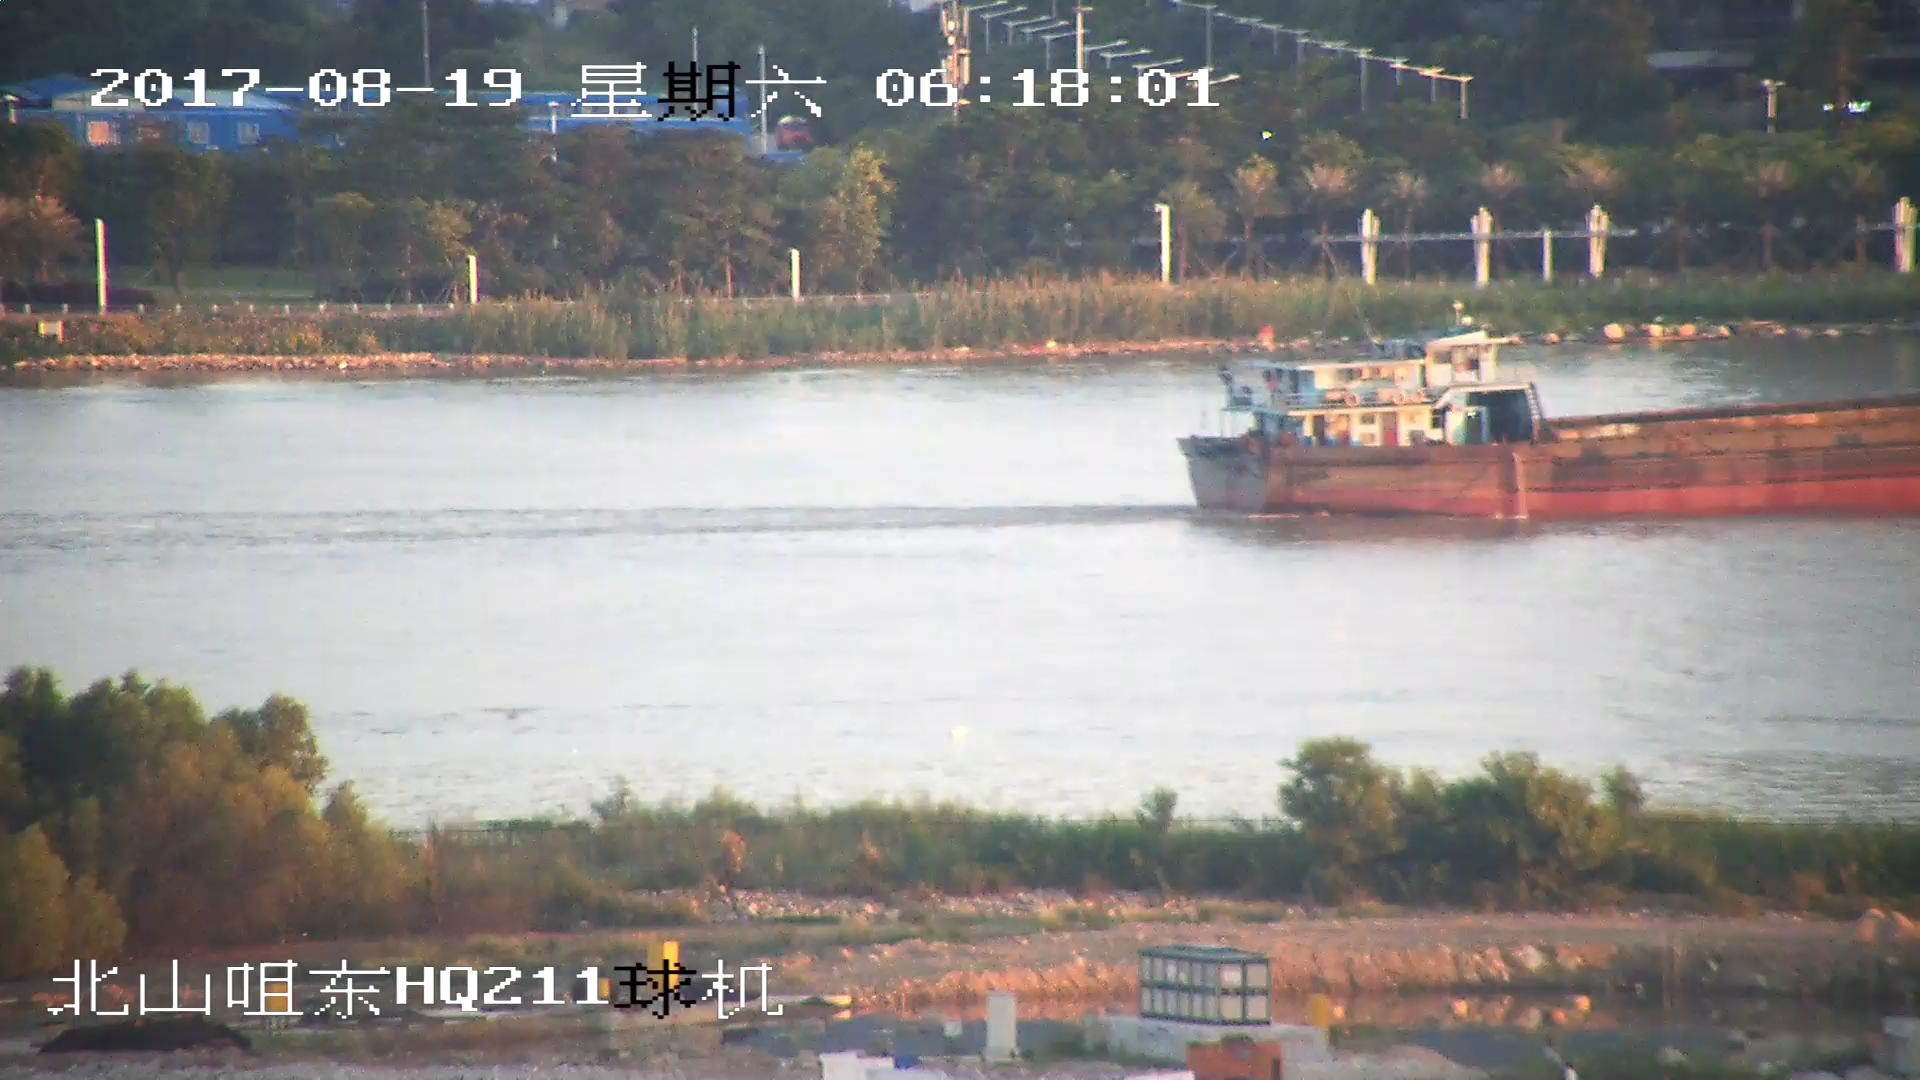bulk cargo carrier: (1166, 336, 1920, 525)
